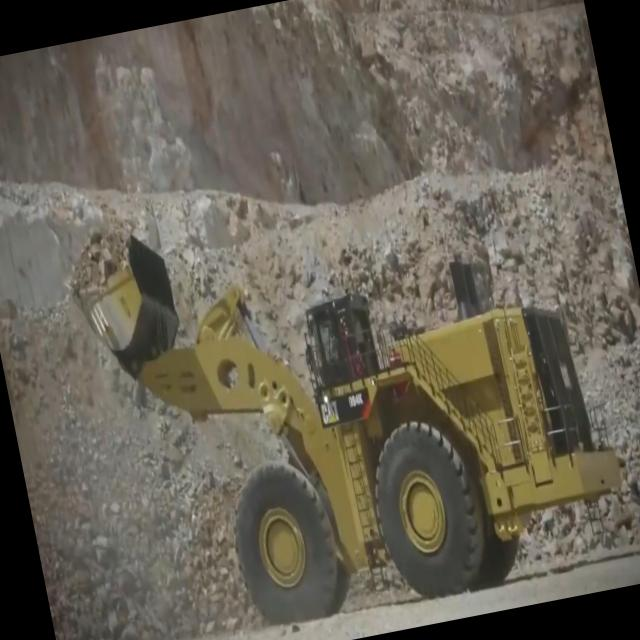pala cargadora: (59, 139, 640, 640)
